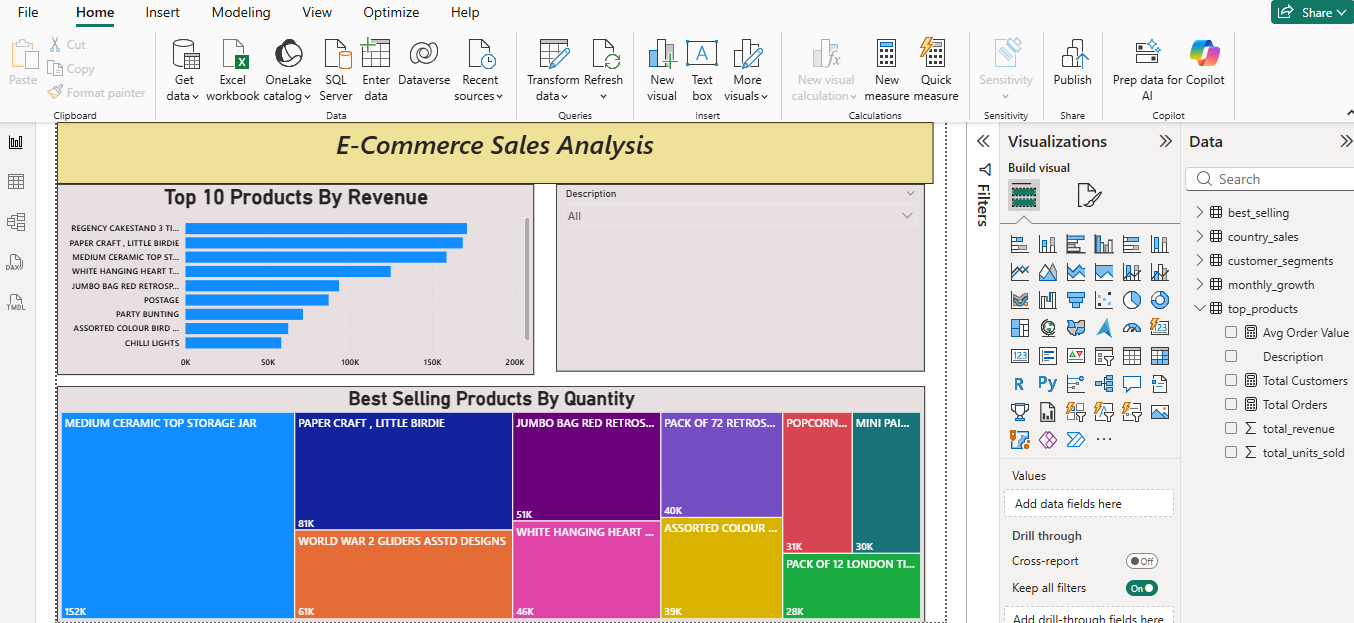

What the dashboard file says about the page in this screenshot:
{"tool":"powerbi","page":{"name":"Product Performance","canvas":[1280,720],"ordinal":1},"visuals":[{"type":"clusteredBarChart","title":"Top 10 Products By Revenue","fields":{"Category":["top_products.Description"],"Y":["Sum(top_products.total_revenue)"]},"box":[0,89,687,275.5],"z":0},{"type":"treemap","title":"Best Selling Products By Quantity","fields":{"Group":["best_selling.Description"],"Values":["Sum(best_selling.total_units_sold)"]},"box":[0,379.6,1249.8,341],"z":1},{"type":"textbox","box":[0,0,1261.5,89],"z":3},{"type":"slicer","fields":{"Values":["top_products.Description"]},"box":[719,89,530.8,270.4],"z":4}]}

Visuals, with their boxes on the page's 1280x720 design canvas (x1, y1, x2, y2). These are canvas units, not pixel positions in the 1354x623 screenshot, which may show the page scaled, cropped or inside an application window:
"Top 10 Products By Revenue" clusteredBarChart: [0,89,687,364]
"Best Selling Products By Quantity" treemap: [0,380,1250,721]
textbox: [0,0,1262,89]
slicer - top_products.Description: [719,89,1250,359]
